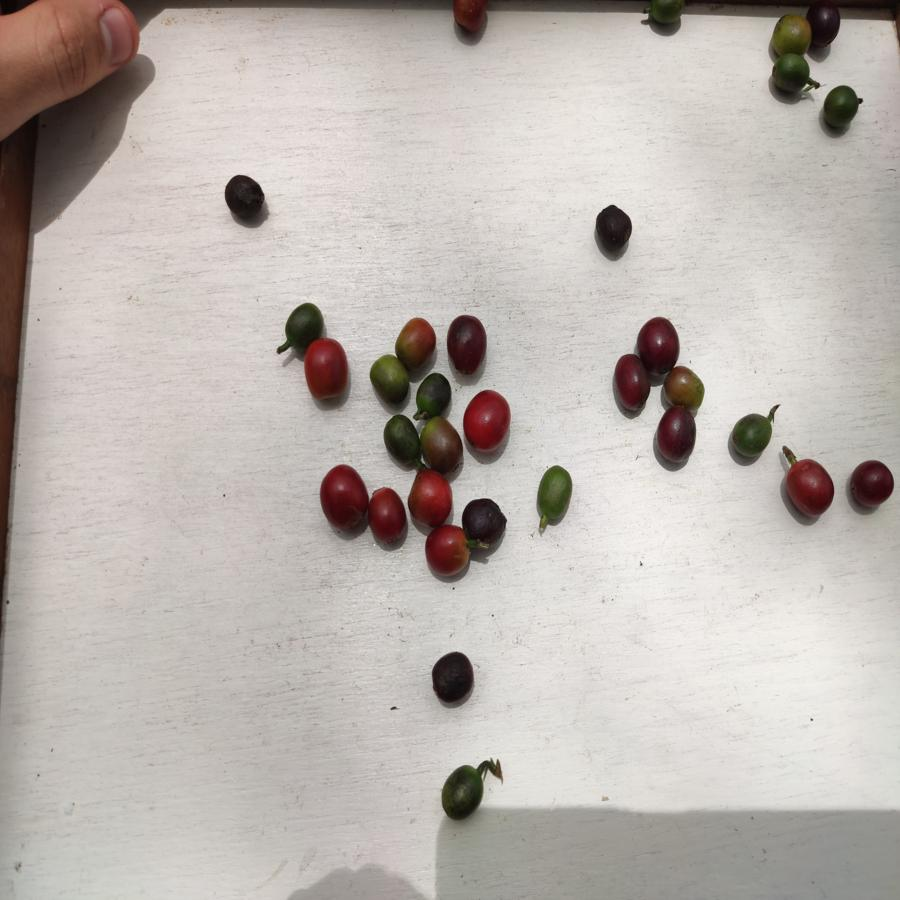Inmaduro: (535, 466, 576, 524), (442, 764, 482, 823), (369, 354, 410, 407), (384, 415, 424, 466), (729, 412, 773, 458), (282, 301, 320, 348), (822, 84, 860, 130), (771, 53, 810, 97), (416, 372, 451, 417), (648, 1, 686, 28)
Maduro: (319, 464, 367, 534), (462, 385, 511, 451), (784, 457, 838, 514), (304, 338, 349, 402), (422, 523, 473, 575), (407, 472, 454, 523), (367, 488, 408, 545)
Pinton: (420, 416, 464, 471), (395, 313, 437, 364), (769, 12, 811, 54), (664, 366, 706, 406)
Sobremaduro: (446, 314, 489, 376), (428, 650, 474, 707), (634, 314, 679, 372), (611, 354, 652, 410), (462, 499, 507, 550), (656, 409, 698, 463), (223, 173, 270, 220), (849, 459, 893, 509), (591, 202, 633, 249), (809, 3, 840, 51)
